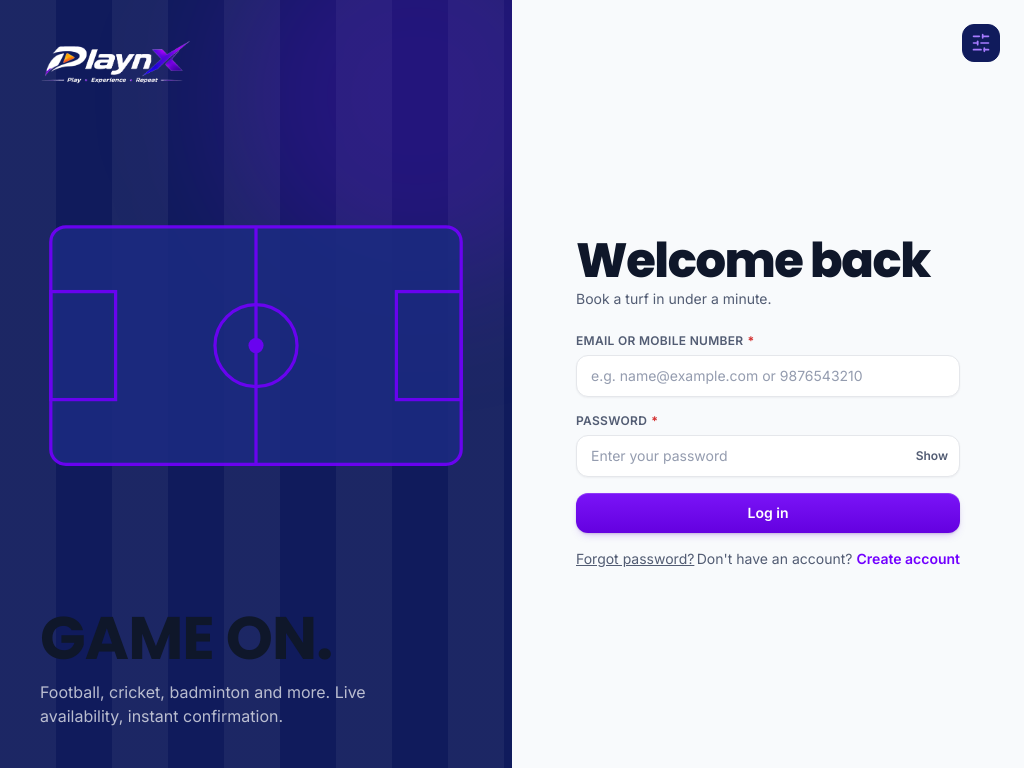
Test: auth pages › shows an inline error and keeps the form when login is rejected
The width and height of the screenshot is (1024, 768).
Type "a@b.co" into the field labelled "Email or mobile number". click: (768, 376)
box: [576,355,960,397]
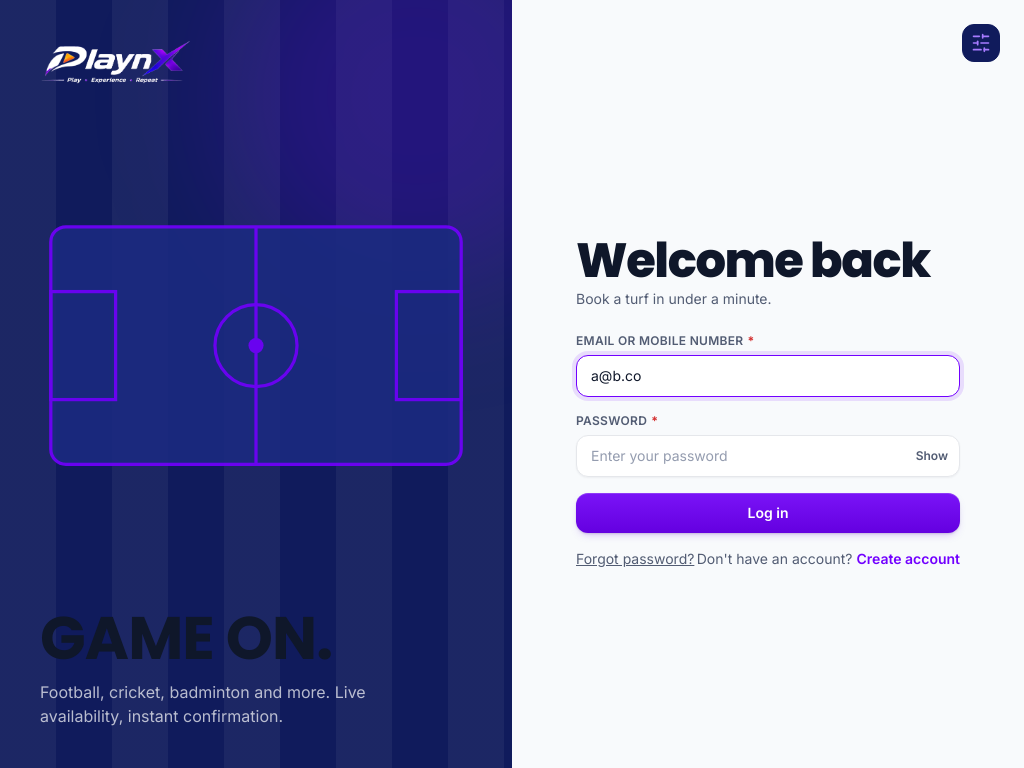
Type "wrongpass1" into the password field labelled "Password". click: (768, 456)
box: [576,435,960,477]
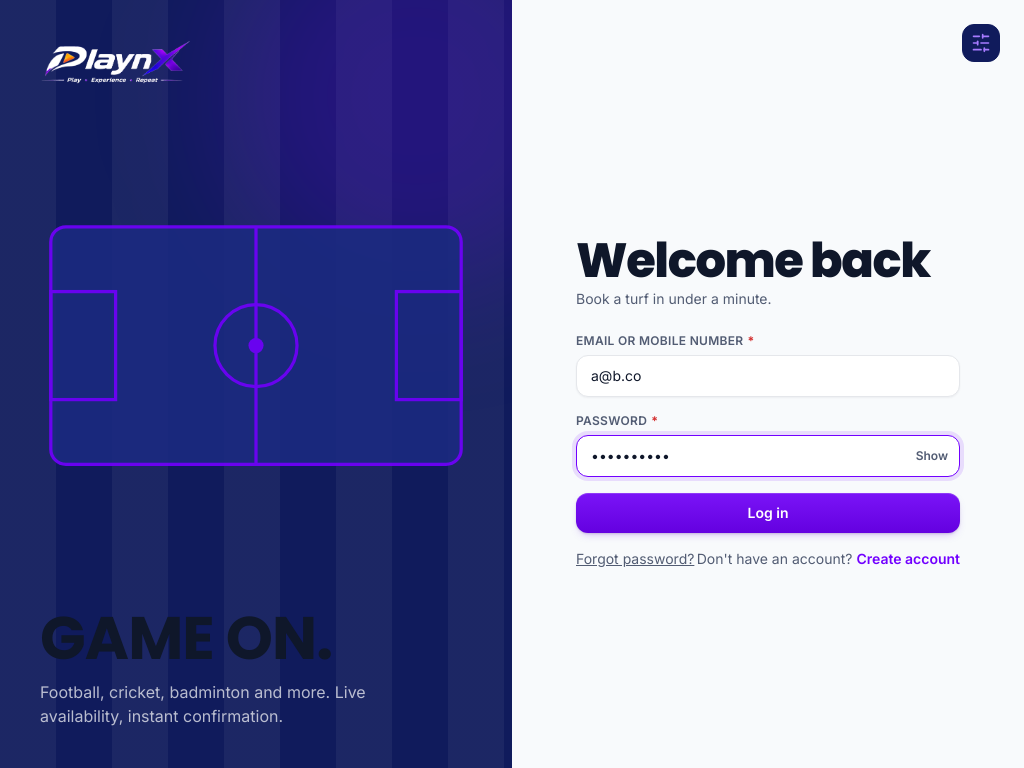
Click the button "Log in". click: (768, 513)
box: [576,493,960,533]
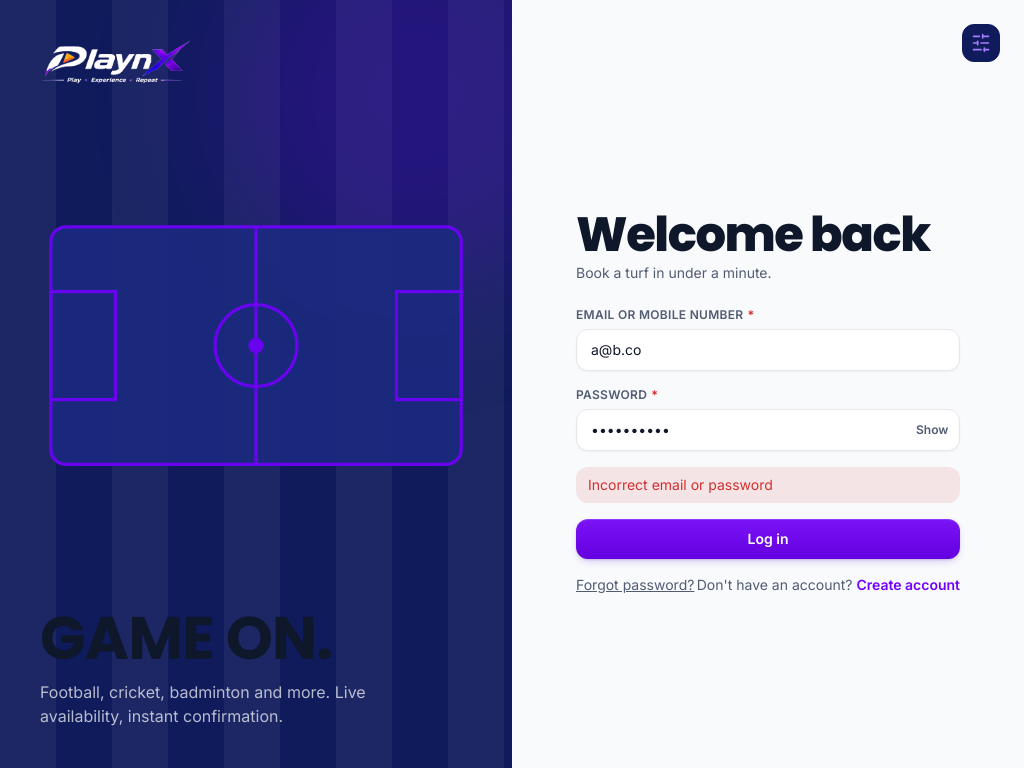
Check: the message reads "Incorrect email or password", box [588,476,773,493]
